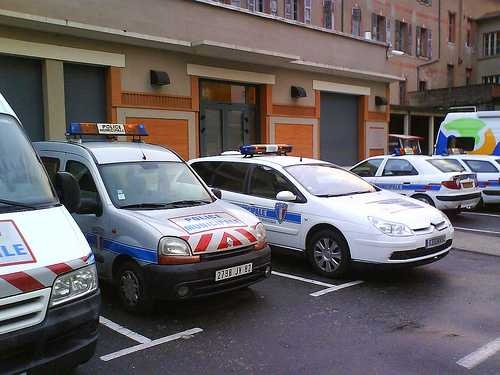Police Car: (49, 102, 264, 287), (210, 131, 462, 264), (354, 143, 480, 215)
